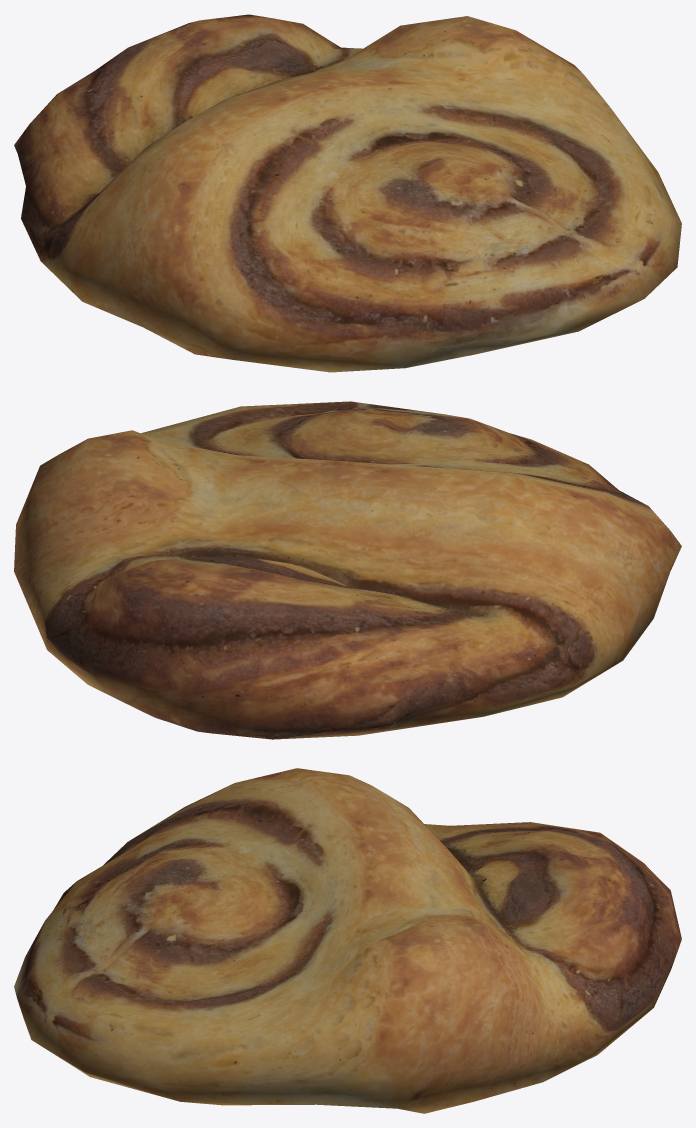
The model's file is 3DPastry003_LQ-1K-JPG.obj.
The picture shows the model from 3 angles, top to bottom: view 1: azimuth 30°, elevation 25°; view 2: azimuth 150°, elevation 25°; view 3: azimuth 270°, elevation 25°; orthographic projection. The views are drawn at different scales.
Visible parts, largest first — view 1: 3DPastry003_LQ-1K-JPG; view 2: 3DPastry003_LQ-1K-JPG; view 3: 3DPastry003_LQ-1K-JPG.
Part boxes in pixels (left/top/right/bottom): 3DPastry003_LQ-1K-JPG: left=14, top=14, right=681, bottom=372; 3DPastry003_LQ-1K-JPG: left=14, top=401, right=681, bottom=739; 3DPastry003_LQ-1K-JPG: left=14, top=768, right=681, bottom=1113.
Bounding box in the file's own units: 0.1805 × 0.0516 × 0.1946.
Materials: 1 (1 with a texture image).
